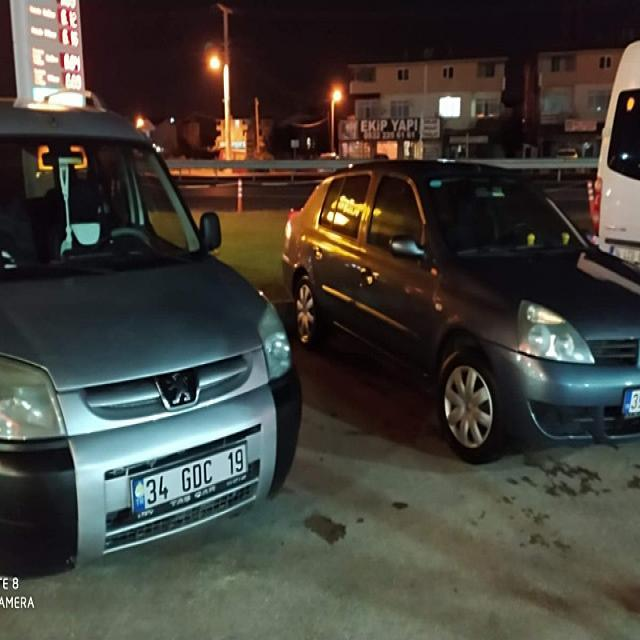plate: (129, 441, 249, 514)
